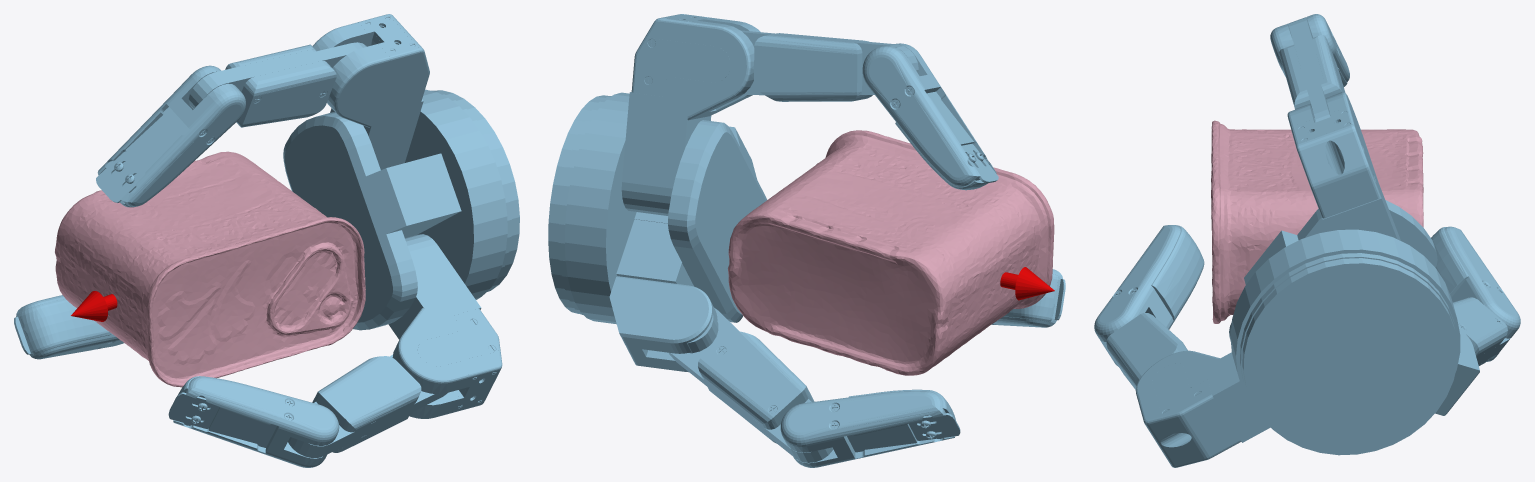
3 renders of one model, left to right at view 1: azimuth 30°, elevation 25°; view 2: azimuth 150°, elevation 25°; view 3: azimuth 270°, elevation 25°, orthographic. The views are drawn at different scales.
Parts seen in each view (by area): view 1: world, potted_meat_can.stl; view 2: world, potted_meat_can.stl; view 3: world, potted_meat_can.stl.
Part boxes in pixels (box(x1,y1,x2,y2)): world: box(14, 14, 519, 467); potted_meat_can.stl: box(55, 151, 365, 387); world: box(548, 14, 1065, 467); potted_meat_can.stl: box(728, 130, 1054, 375); world: box(1094, 14, 1520, 467); potted_meat_can.stl: box(1211, 120, 1423, 323).
Size of the model in its own units: 0.1995 by 0.1507 by 0.1675.
